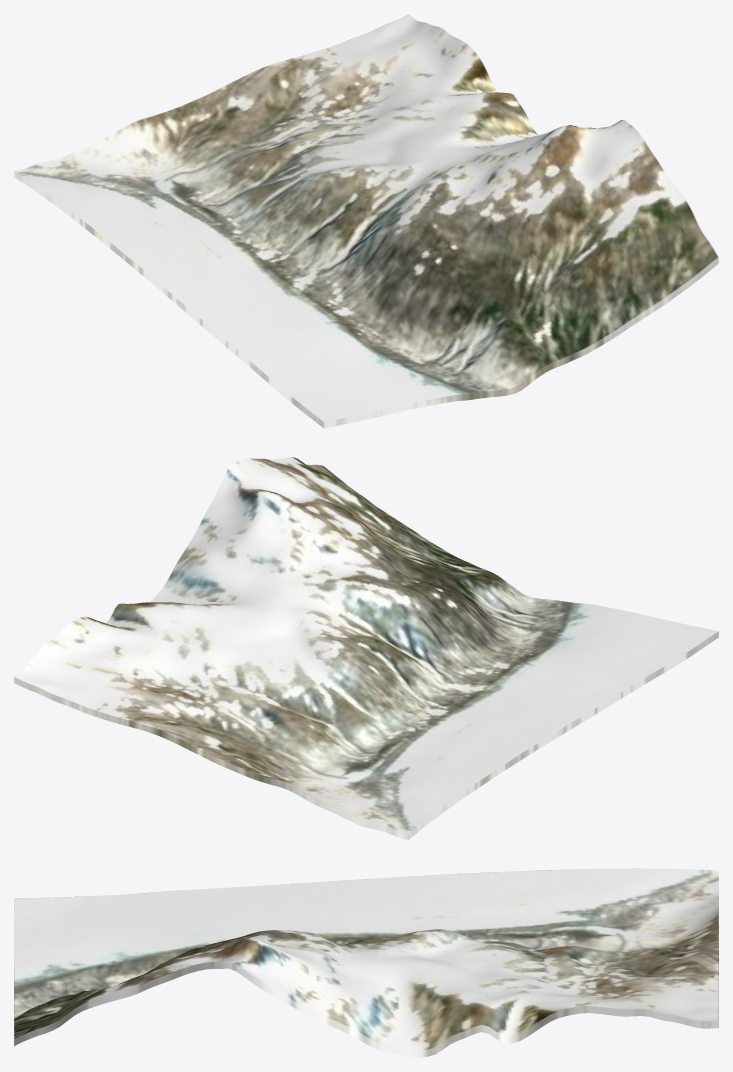
3 views of the same model, one above another, from view 1: azimuth 30°, elevation 25°; view 2: azimuth 150°, elevation 25°; view 3: azimuth 270°, elevation 25° (orthographic). The views are drawn at different scales.
Visible parts, largest first — view 1: tile; view 2: tile; view 3: tile.
Boxes of the visible parts, x1,y1,x2,y2 form: tile: (14, 14, 718, 428); tile: (14, 457, 718, 839); tile: (14, 868, 718, 1057).
Size of the model in its own units: 2025 by 760 by 2752.
Materials: 1 (1 with a texture image).
